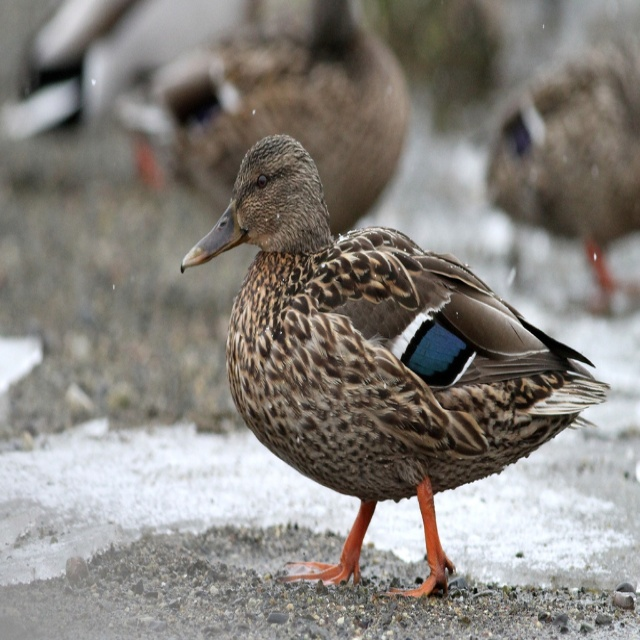Duck: (176, 138, 613, 605)
